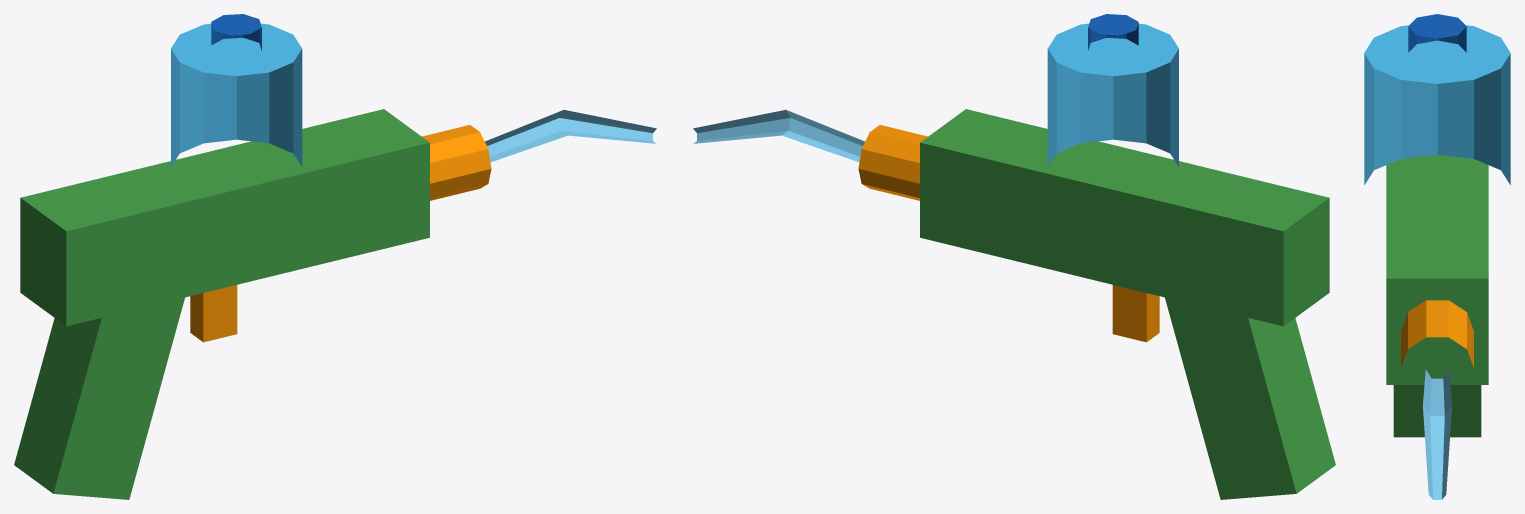
Rendered from vattenpistol.glb.
3 renders of one model, left to right at view 1: azimuth 30°, elevation 25°; view 2: azimuth 150°, elevation 25°; view 3: azimuth 270°, elevation 25°, orthographic. The views are drawn at different scales.
Visible parts, largest first — view 1: vattenpistol; view 2: vattenpistol; view 3: vattenpistol.
Boxes of the visible parts, x1,y1,x2,y2 form: vattenpistol: (14, 14, 656, 499); vattenpistol: (693, 14, 1335, 499); vattenpistol: (1364, 14, 1510, 499).
Size of the model in its own units: 0.5504 by 0.3616 by 0.1.
